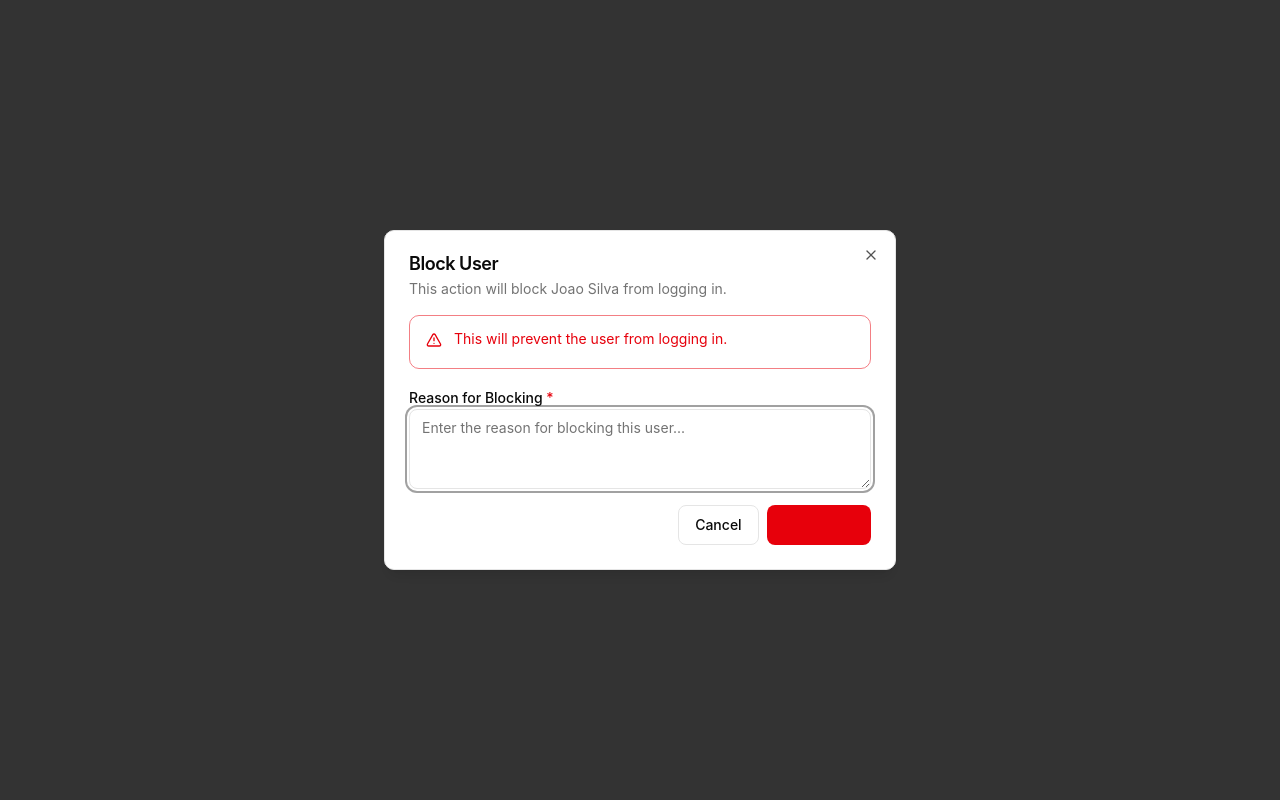
BlockDialog › reason field required, min 10 chars validation
This screenshot has width=1280, height=800.
In the text box labelled "Reason for Blocking *": (640, 449) left=409, top=409, right=871, bottom=489, type "short"
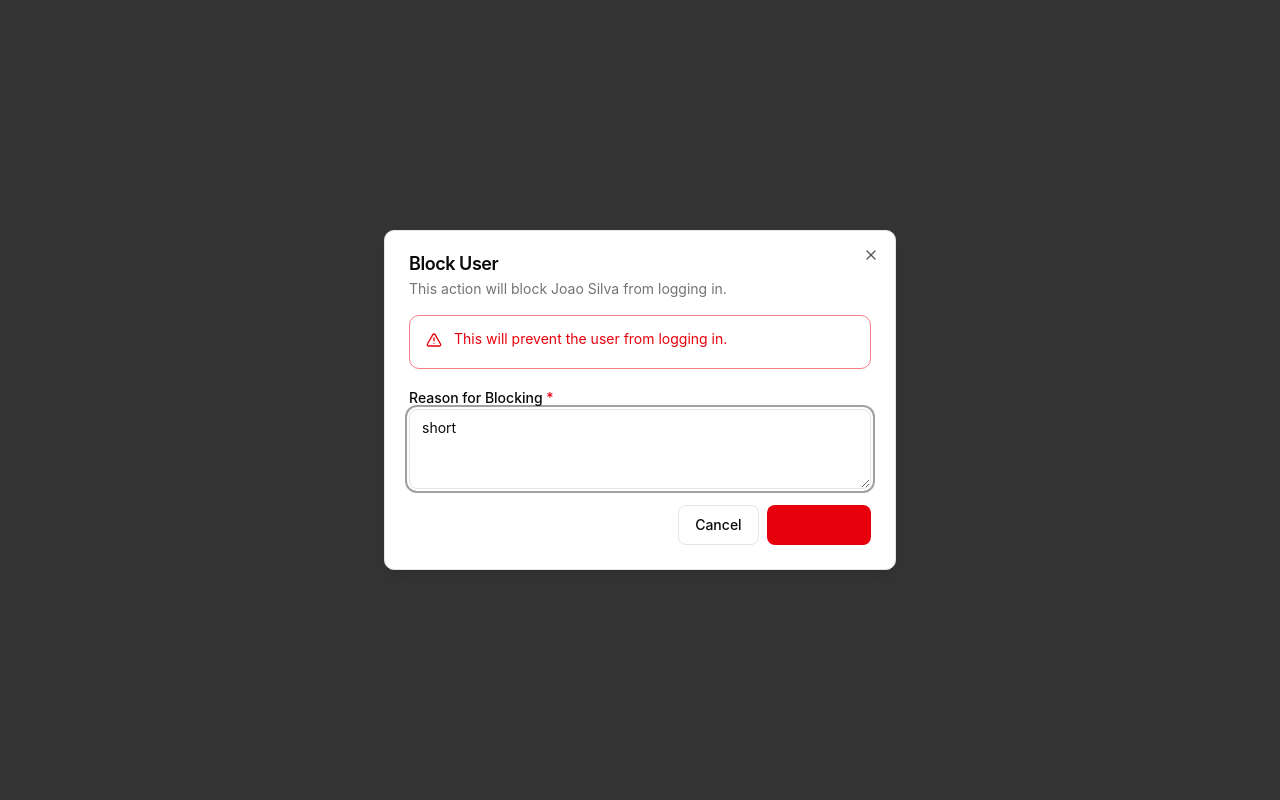
Click the button "Block User": (819, 525) left=767, top=505, right=871, bottom=545
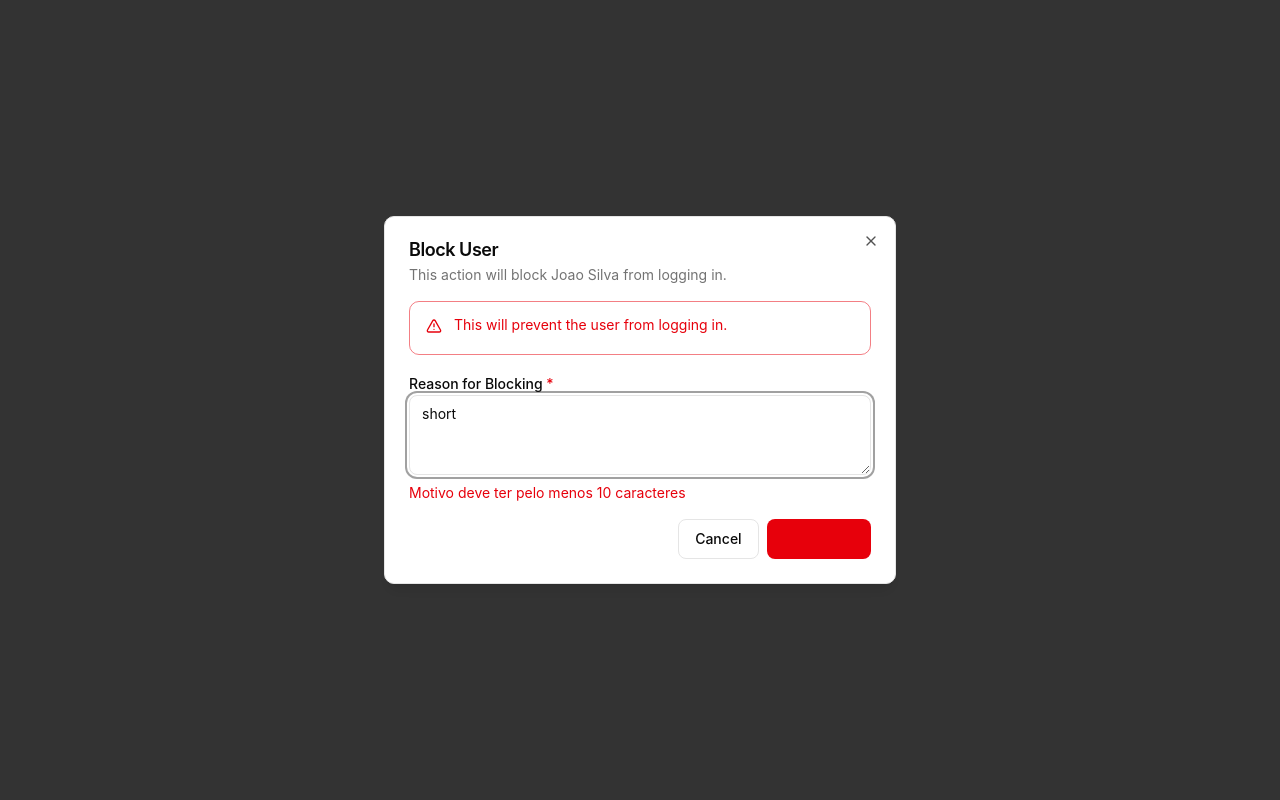
expect the text "Motivo deve ter pelo menos 10 caracteres" is shown: met, box left=409, top=484, right=686, bottom=501
